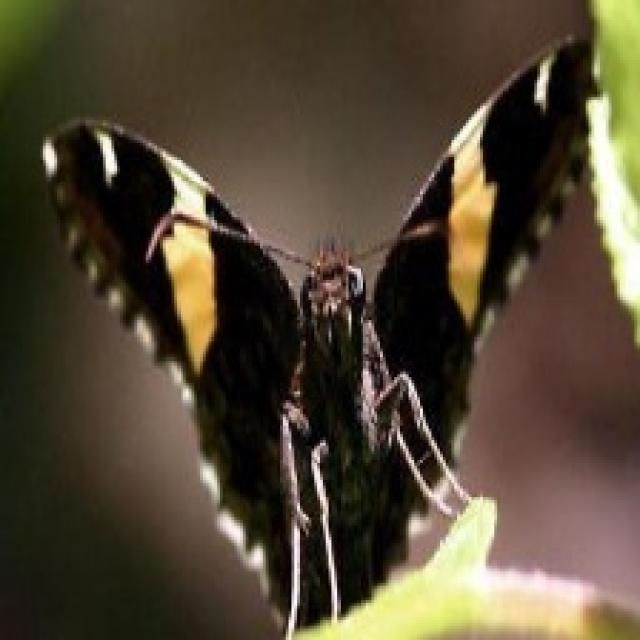butterfly: (37, 32, 603, 637)
